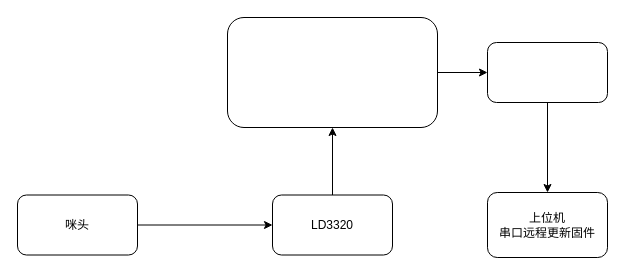
Image size: 625x275. Some labels were removed from this diagram. The shapes that lost their labels are listed below. From the top down, each one's box as (x1, y1, x2, y2) in pixels, then its label:
(226, 16, 438, 128): APM32F103C8T6
(486, 42, 608, 102): 串口
